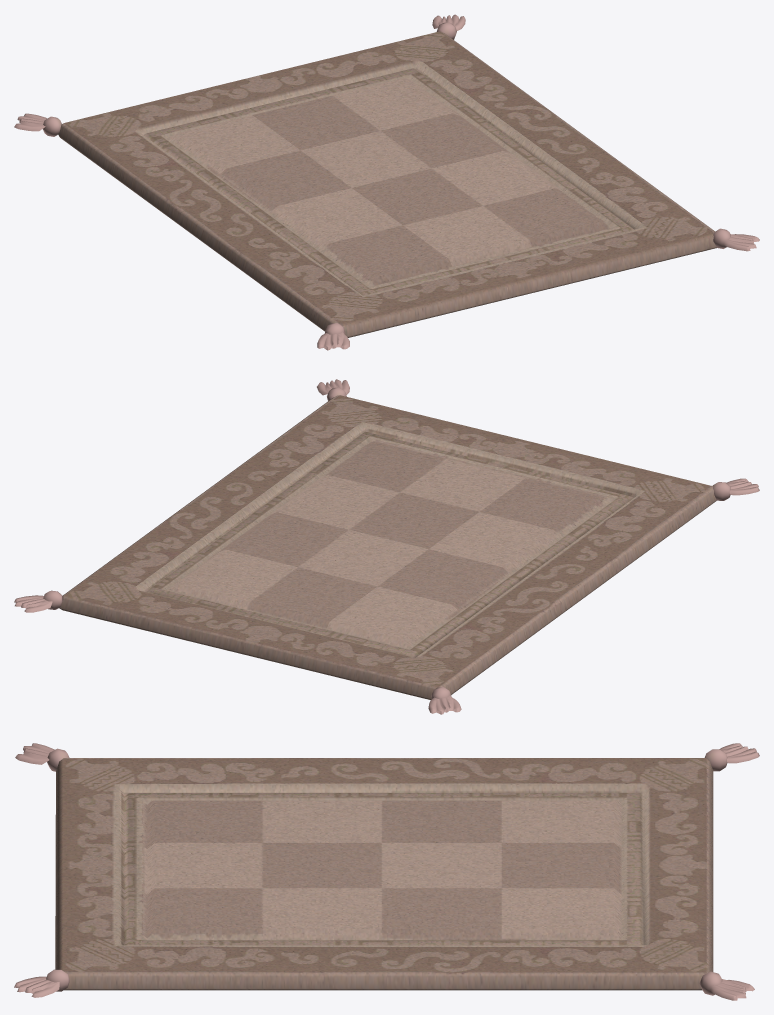
The model's file is Rug_Mark.fbx.
3 renders of one model, top to bottom at view 1: azimuth 30°, elevation 25°; view 2: azimuth 150°, elevation 25°; view 3: azimuth 270°, elevation 25°, orthographic. The views are drawn at different scales.
Visible parts, largest first — view 1: Rug_Mark (4); view 2: Rug_Mark (4); view 3: Rug_Mark (4), rugDetail7, rugDetail1, rugDetail5, rugDetail3.
Part boxes in pixels (left/top/right/bottom): Rug_Mark (4): left=58, top=31, right=716, bottom=337; Rug_Mark (4): left=59, top=395, right=716, bottom=699; Rug_Mark (4): left=55, top=758, right=713, bottom=990; rugDetail7: left=14, top=976, right=59, bottom=997; rugDetail1: left=710, top=979, right=754, bottom=1000; rugDetail5: left=15, top=743, right=54, bottom=764; rugDetail3: left=719, top=743, right=759, bottom=763.
Size of the model in its own units: 15.46 by 0.5992 by 19.07.
